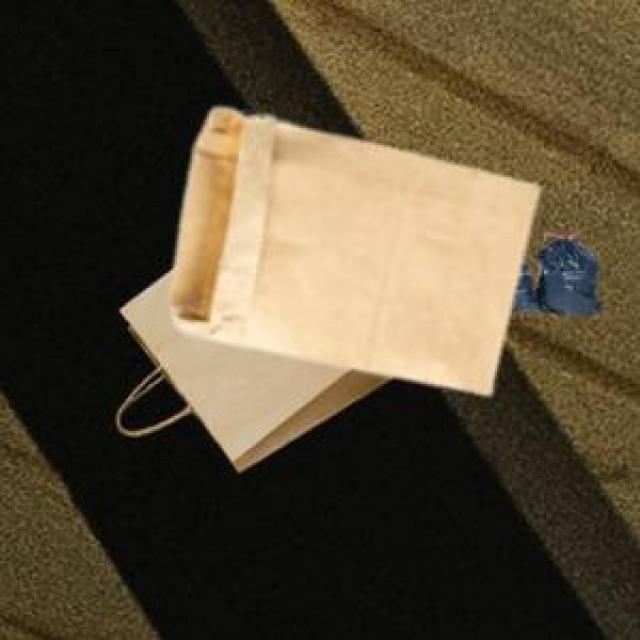miscellaneous trash: (507, 233, 597, 309)
paper: (166, 105, 536, 390), (113, 265, 390, 467)
